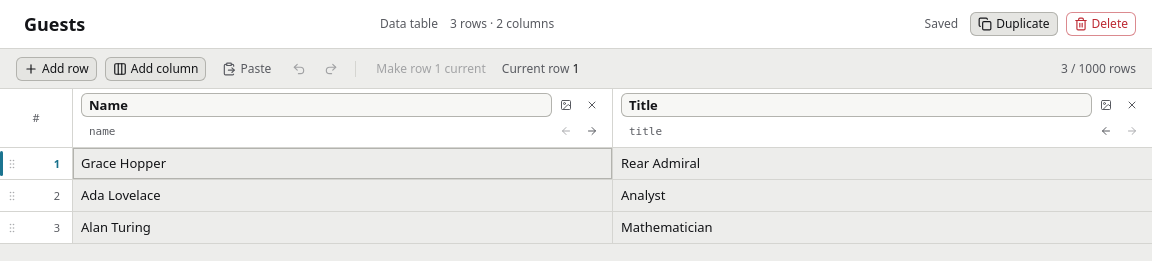
Test: source editor › a burst of cell edits saves once, 500 ms after the last
Press the mouse on the cell "Grace Hopper": {"x": 342, "y": 164} [72,148,612,179]
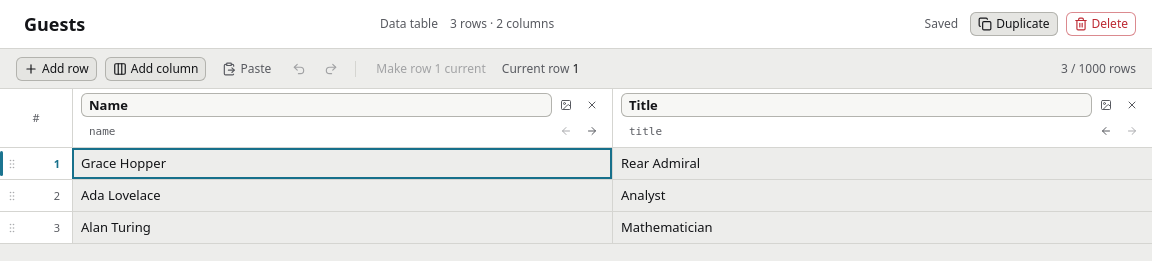
Press F2 in the table, box [0,89,1151,244]
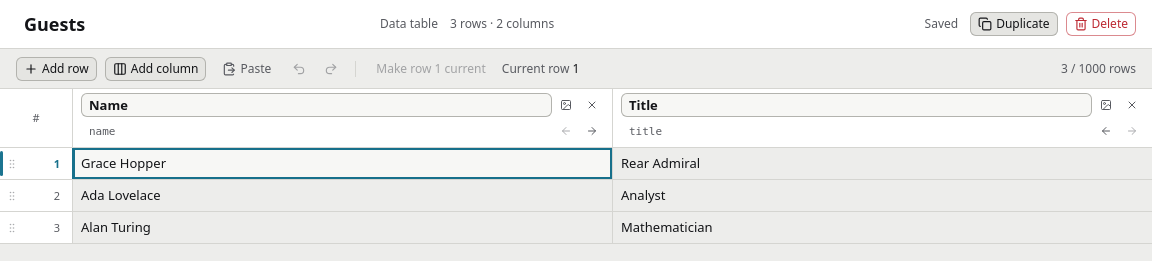
Replace the text in the field with class "edit" with "G": {"x": 342, "y": 164} [73,148,612,179]
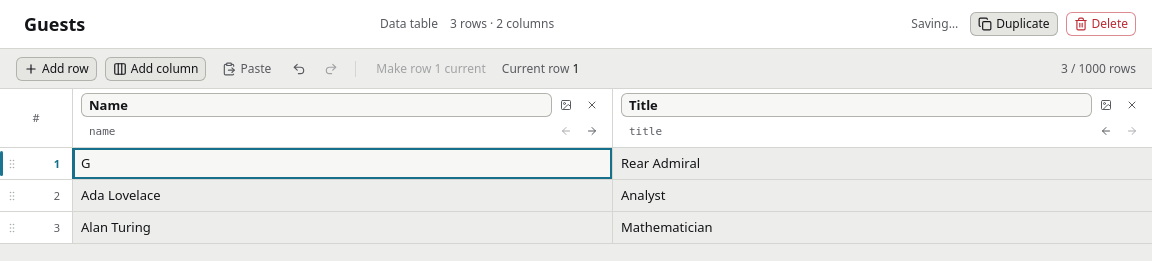
Replace the text in the field with class "edit" with "Gr": {"x": 342, "y": 164} [73,148,612,179]
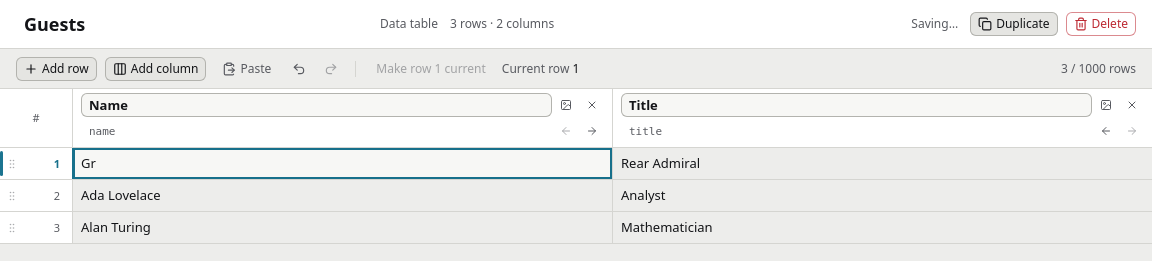
Replace the text in the field with class "edit" with "Gra": {"x": 342, "y": 164} [73,148,612,179]
Wait 500 ms
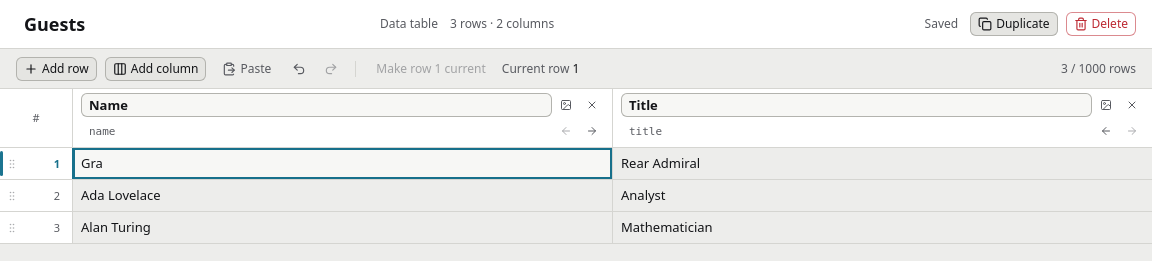
Check: the message reads "Saved", box [925,15,958,32]
